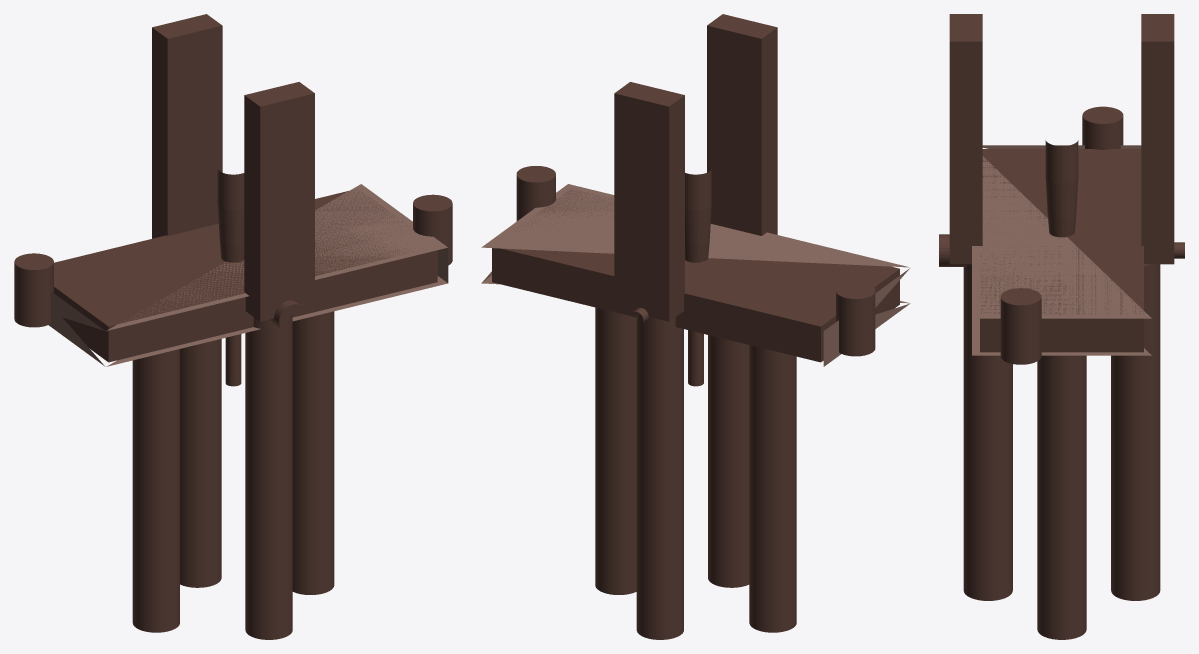
3 views of the same model, side by side, from view 1: azimuth 30°, elevation 25°; view 2: azimuth 150°, elevation 25°; view 3: azimuth 270°, elevation 25° (orthographic). The views are drawn at different scales.
Parts seen in each view (by area): view 1: seat_core, backrest_front, leg_04, backrest_back, leg_01, seat_surface, leg_02, leg_03, backrest_left, armrest_l, armrest_r; view 2: seat_core, backrest_back, leg_03, backrest_front, leg_01, leg_02, seat_surface, leg_04, backrest_left, armrest_l, armrest_r; view 3: seat_core, seat_surface, leg_02, leg_03, leg_04, backrest_back, backrest_front, armrest_r, backrest_left, armrest_l, backrest_right.
Part boxes in pixels (x1=…): seat_core: x1=54, y1=188, x2=437, y2=362; backrest_front: x1=244, y1=82, x2=314, y2=321; leg_04: x1=245, y1=314, x2=292, y2=639; backrest_back: x1=152, y1=14, x2=222, y2=238; leg_01: x1=132, y1=349, x2=179, y2=632; seat_surface: x1=48, y1=184, x2=448, y2=366; leg_02: x1=292, y1=311, x2=334, y2=594; leg_03: x1=180, y1=339, x2=221, y2=587; backrest_left: x1=217, y1=169, x2=244, y2=386; armrest_l: x1=14, y1=253, x2=53, y2=327; armrest_r: x1=413, y1=194, x2=452, y2=265; seat_core: x1=492, y1=189, x2=899, y2=362; backrest_back: x1=614, y1=82, x2=684, y2=321; leg_03: x1=636, y1=314, x2=683, y2=639; backrest_front: x1=707, y1=14, x2=777, y2=235; leg_01: x1=749, y1=345, x2=796, y2=632; leg_02: x1=595, y1=307, x2=636, y2=594; seat_surface: x1=481, y1=184, x2=910, y2=366; leg_04: x1=708, y1=335, x2=749, y2=587; backrest_left: x1=685, y1=169, x2=711, y2=386; armrest_l: x1=836, y1=282, x2=875, y2=356; armrest_r: x1=516, y1=166, x2=555, y2=221; seat_core: x1=980, y1=149, x2=1143, y2=352; seat_surface: x1=972, y1=145, x2=1151, y2=355; leg_02: x1=1037, y1=355, x2=1086, y2=639; leg_03: x1=1111, y1=264, x2=1160, y2=600; leg_04: x1=963, y1=264, x2=1012, y2=600; backrest_back: x1=1141, y1=14, x2=1174, y2=264; backrest_front: x1=949, y1=14, x2=982, y2=264; armrest_r: x1=1000, y1=288, x2=1041, y2=364; backrest_left: x1=1045, y1=140, x2=1078, y2=237; armrest_l: x1=1082, y1=106, x2=1123, y2=149; backrest_right: x1=939, y1=234, x2=1184, y2=266.
Bounding box in the file's own units: 0.574 × 0.758 × 0.3.
